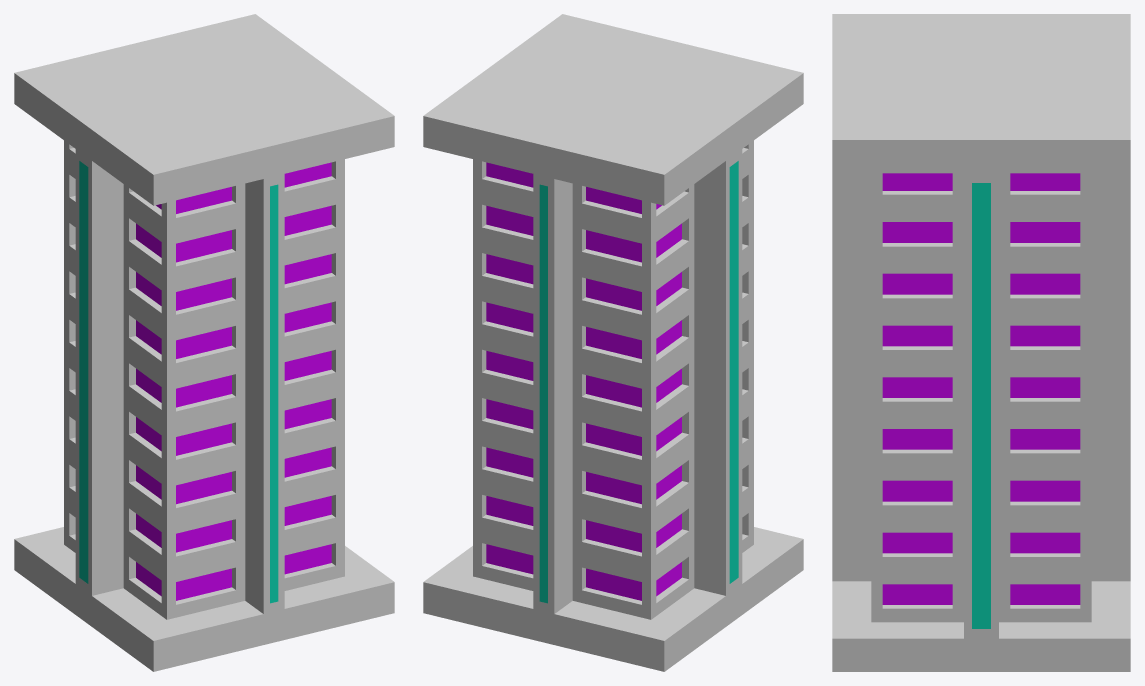
Rendered from SM_Building_Short_1.fbx.
The picture shows the model from 3 angles, left to right: view 1: azimuth 30°, elevation 25°; view 2: azimuth 150°, elevation 25°; view 3: azimuth 270°, elevation 25°; orthographic projection. The views are drawn at different scales.
Visible parts, largest first — view 1: building_08.012; view 2: building_08.012; view 3: building_08.012.
Part boxes in pixels (x1,y1,x2,y2): building_08.012: [14, 14, 394, 671]; building_08.012: [423, 14, 803, 671]; building_08.012: [832, 14, 1130, 671].
Bounding box in the file's own units: 8.13 × 16 × 8.13.
